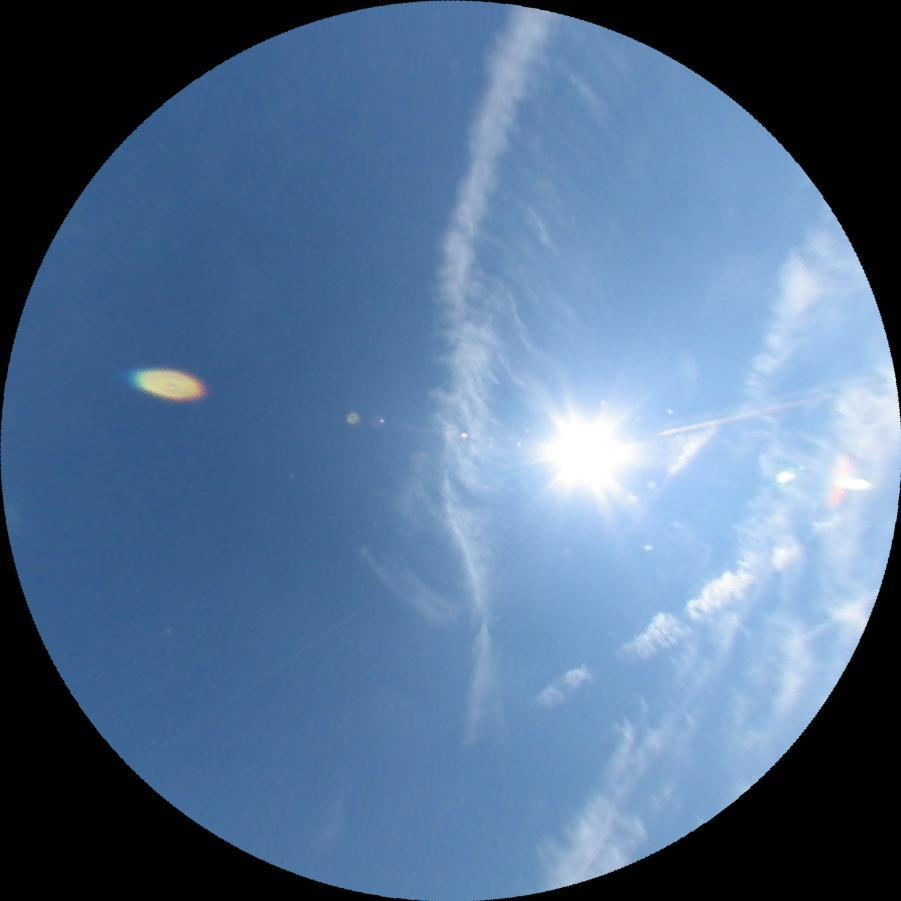contrail veryold: (340, 17, 693, 641), (394, 6, 562, 749), (528, 534, 802, 718)
parasite: (657, 390, 834, 439)
sun: (539, 415, 624, 488)
